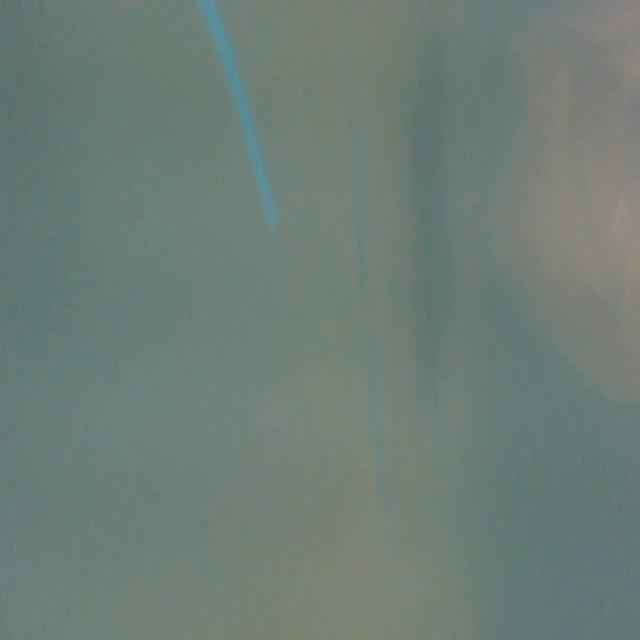plastic bags: (477, 9, 640, 412)
